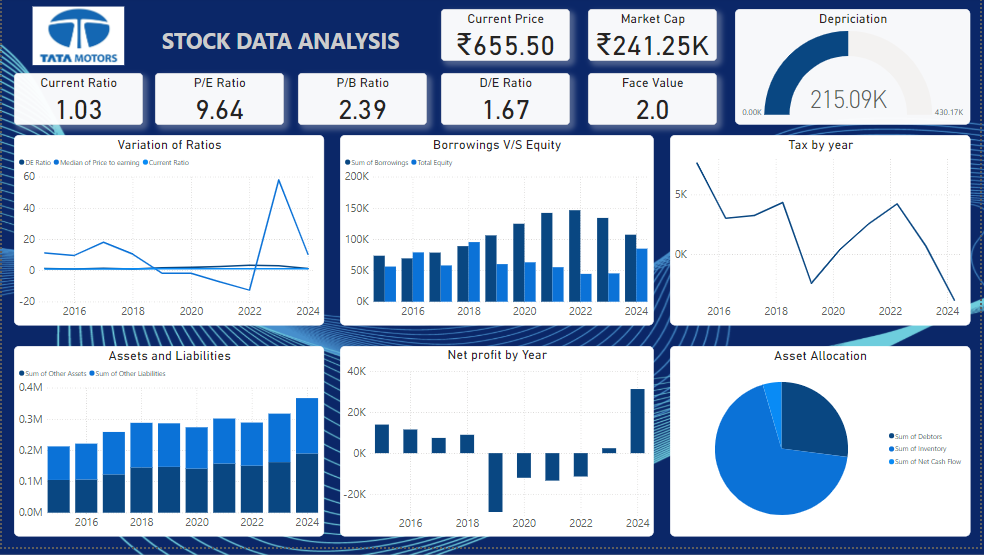

Layout of this report page (visuals, bound fields, positions):
{"tool":"powerbi","page":{"name":"Page 1","canvas":[1920,1080],"ordinal":0},"visuals":[{"type":"card","title":"P/E Ratio","fields":{"Values":["Median(Annual.Price to earning)"]},"box":[300.2,149,252.7,101.5],"z":0},{"type":"image","box":[0,13,300.2,125.3],"z":1000},{"type":"card","title":"D/E Ratio","fields":{"Values":["Annual.DE Ratio"]},"box":[861.8,149,252.7,101.5],"z":2000},{"type":"card","title":"P/B Ratio","fields":{"Values":["Annual.PB Ratio"]},"box":[581,149,252.7,101.5],"z":3000},{"type":"card","title":"Current Price","fields":{"Values":["Sum(Data Sheet.Current Price)"]},"box":[861.8,23.8,252.7,101.5],"z":4000},{"type":"card","title":"Face Value","fields":{"Values":["Sum(Data Sheet.Face Value)"]},"box":[1151.3,149,252.7,101.5],"z":5000},{"type":"card","title":"Market Cap","fields":{"Values":["Sum(Data Sheet.Market Capitalization)"]},"box":[1151.3,23.8,252.7,101.5],"z":6000},{"type":"textbox","box":[276.5,0,540,125.3],"z":7000},{"type":"lineChart","title":"Variation of Ratios","fields":{"Category":["Balance Sheet.Narration.Variation.Date Hierarchy.Year"],"Y":["Annual.DE Ratio","Median(Annual.Price to earning)","Annual.Current Ratio"]},"box":[23.8,270,609.1,373.7],"z":8000},{"type":"columnChart","title":" Net profit by Year","fields":{"Y":["Sum(Annual.Net profit)"],"Category":["Balance Sheet.Narration.Variation.Date Hierarchy.Year"]},"box":[663.1,684.7,615.6,373.7],"z":9000},{"type":"columnChart","title":"Assets and Liabilities","fields":{"Y":["Sum(Balance Sheet.Other Assets)","Sum(Balance Sheet.Other Liabilities)"],"Category":["Balance Sheet.Narration.Variation.Date Hierarchy.Year"]},"box":[23.8,684.7,609.1,373.7],"z":10000},{"type":"clusteredColumnChart","title":"Borrowings V/S Equity","fields":{"Category":["Balance Sheet.Narration.Variation.Date Hierarchy.Year"],"Y":["Sum(Balance Sheet.Borrowings)","Annual.Total Equity"]},"box":[663.1,270,615.6,373.7],"z":11000},{"type":"card","title":"Current Ratio","fields":{"Values":["Annual.Current Ratio"]},"box":[23.8,149,252.7,101.5],"z":12000},{"type":"pieChart","title":"Asset Allocation","fields":{"Y":["Sum(Balance Sheet.Debtors)","Sum(Balance Sheet.Inventory)","Sum(Cash Flow.Net Cash Flow)"]},"box":[1311.1,684.7,589.7,373.7],"z":13000},{"type":"lineChart","title":"Tax by year","fields":{"Y":["Sum(Data Sheet.Tax)"],"Category":["Cash Flow.Narration.Variation.Date Hierarchy.Year","Cash Flow.Narration.Variation.Date Hierarchy.Quarter","Cash Flow.Narration.Variation.Date Hierarchy.Month","Cash Flow.Narration.Variation.Date Hierarchy.Day"]},"box":[1311.1,270,589.7,358.6],"z":14000},{"type":"gauge","title":"Depriciation","fields":{"Y":["Sum(Profit & Loss.Depreciation)"]},"box":[1438.6,23.8,462.2,226.8],"z":15000}]}

Visuals, with their boxes in screenshot pixels (x1, y1, x2, y2), scaled from the page's 1920x1080 canvas onto the 984x555 screenshot:
"P/E Ratio" card: select_region(154, 77, 283, 129)
image: select_region(0, 7, 154, 71)
"D/E Ratio" card: select_region(442, 77, 571, 129)
"P/B Ratio" card: select_region(298, 77, 427, 129)
"Current Price" card: select_region(442, 12, 571, 64)
"Face Value" card: select_region(590, 77, 720, 129)
"Market Cap" card: select_region(590, 12, 720, 64)
textbox: select_region(142, 0, 418, 64)
"Variation of Ratios" lineChart: select_region(12, 139, 324, 331)
" Net profit by Year" columnChart: select_region(340, 352, 655, 544)
"Assets and Liabilities" columnChart: select_region(12, 352, 324, 544)
"Borrowings V/S Equity" clusteredColumnChart: select_region(340, 139, 655, 331)
"Current Ratio" card: select_region(12, 77, 142, 129)
"Asset Allocation" pieChart: select_region(672, 352, 974, 544)
"Tax by year" lineChart: select_region(672, 139, 974, 323)
"Depriciation" gauge: select_region(737, 12, 974, 129)
